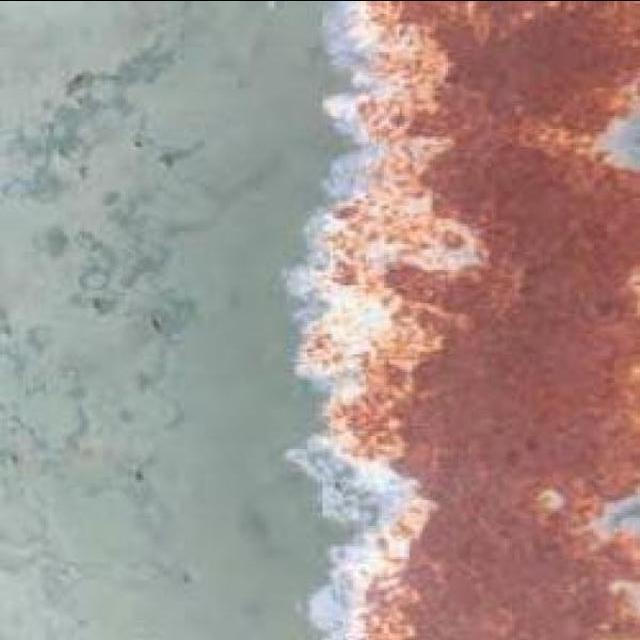corrosion: (322, 1, 640, 640), (11, 16, 345, 622), (5, 104, 204, 329), (363, 5, 634, 147), (6, 25, 198, 193), (329, 6, 455, 148)
